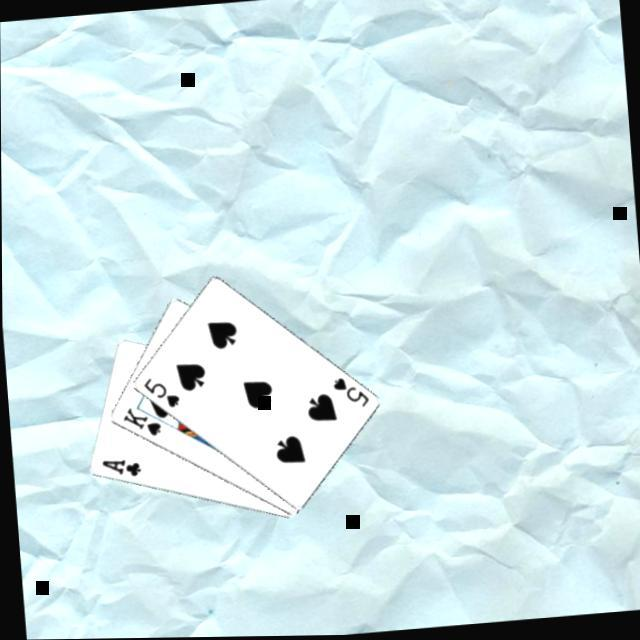5S: (140, 374, 184, 416), (330, 373, 373, 415)
AC: (98, 456, 144, 484)
KS: (119, 404, 165, 444)
